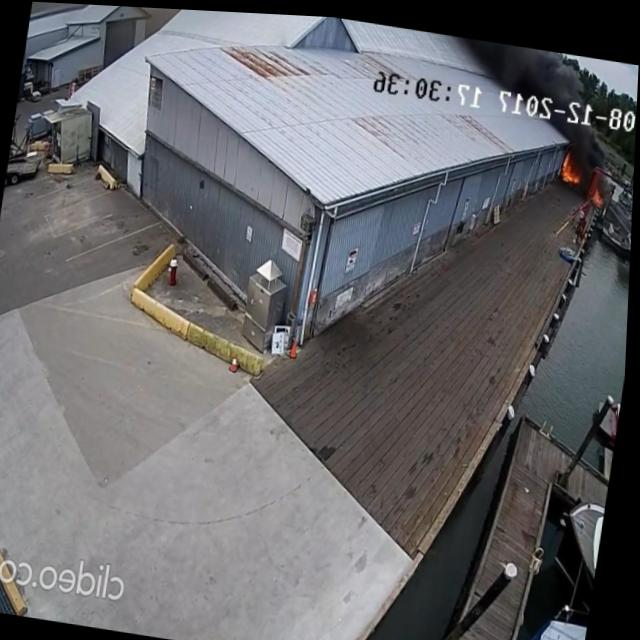fire: (559, 141, 589, 182), (592, 181, 608, 201)
